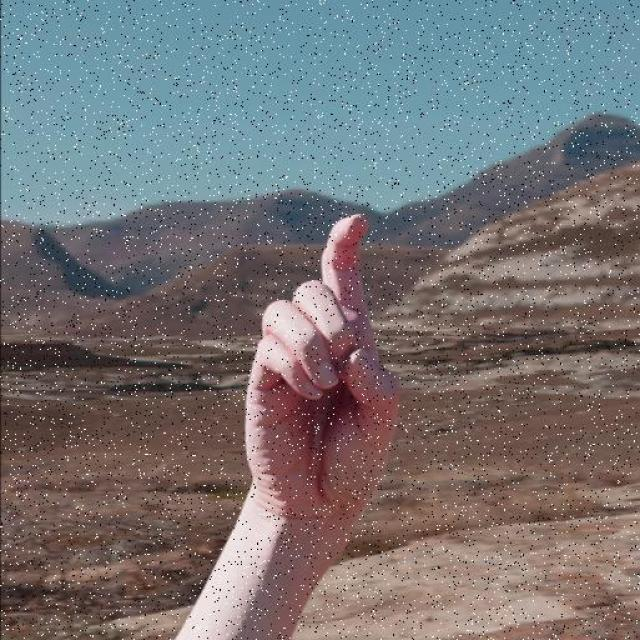X: (155, 202, 434, 632)
